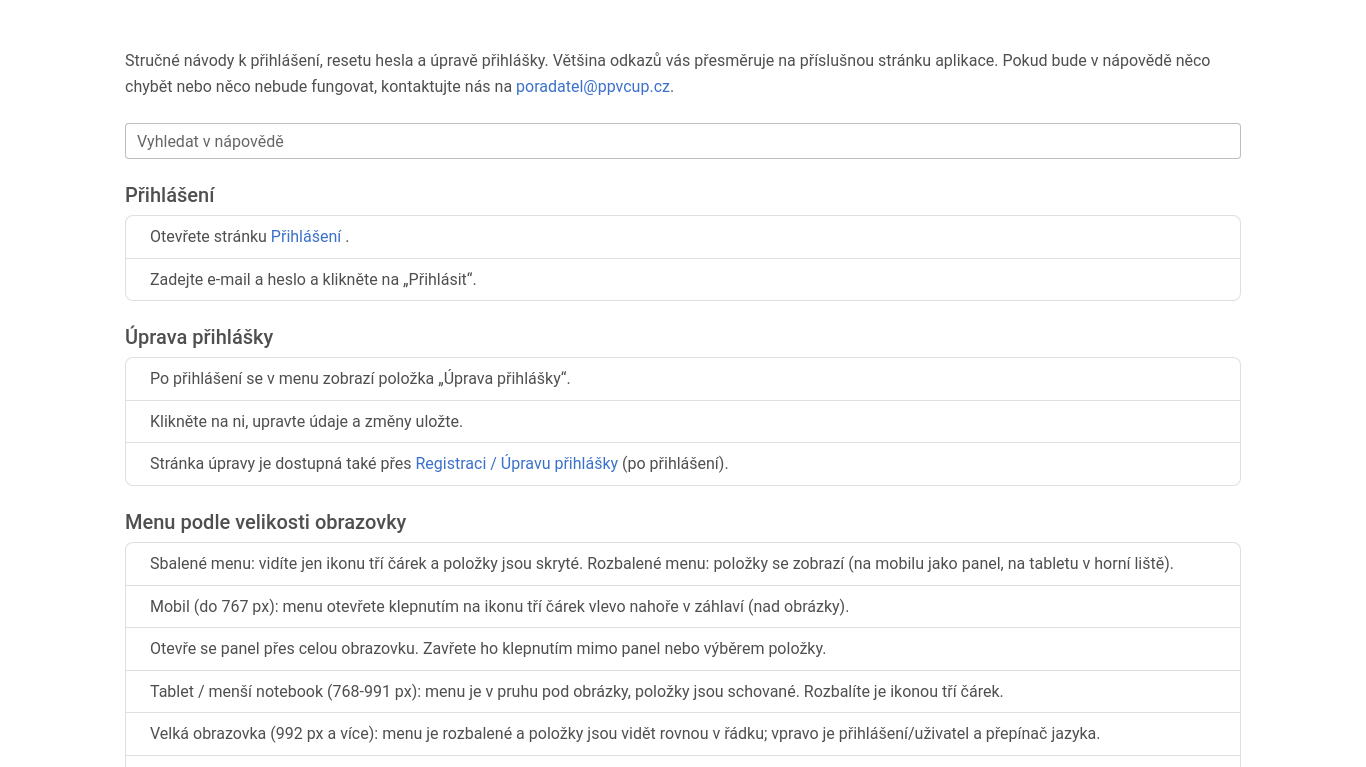
Scenario: search shows not-found message
Type "neexistuje" into the search field named "vyhledat v nápovědě" at point(683, 141), box [125,123,1241,159]
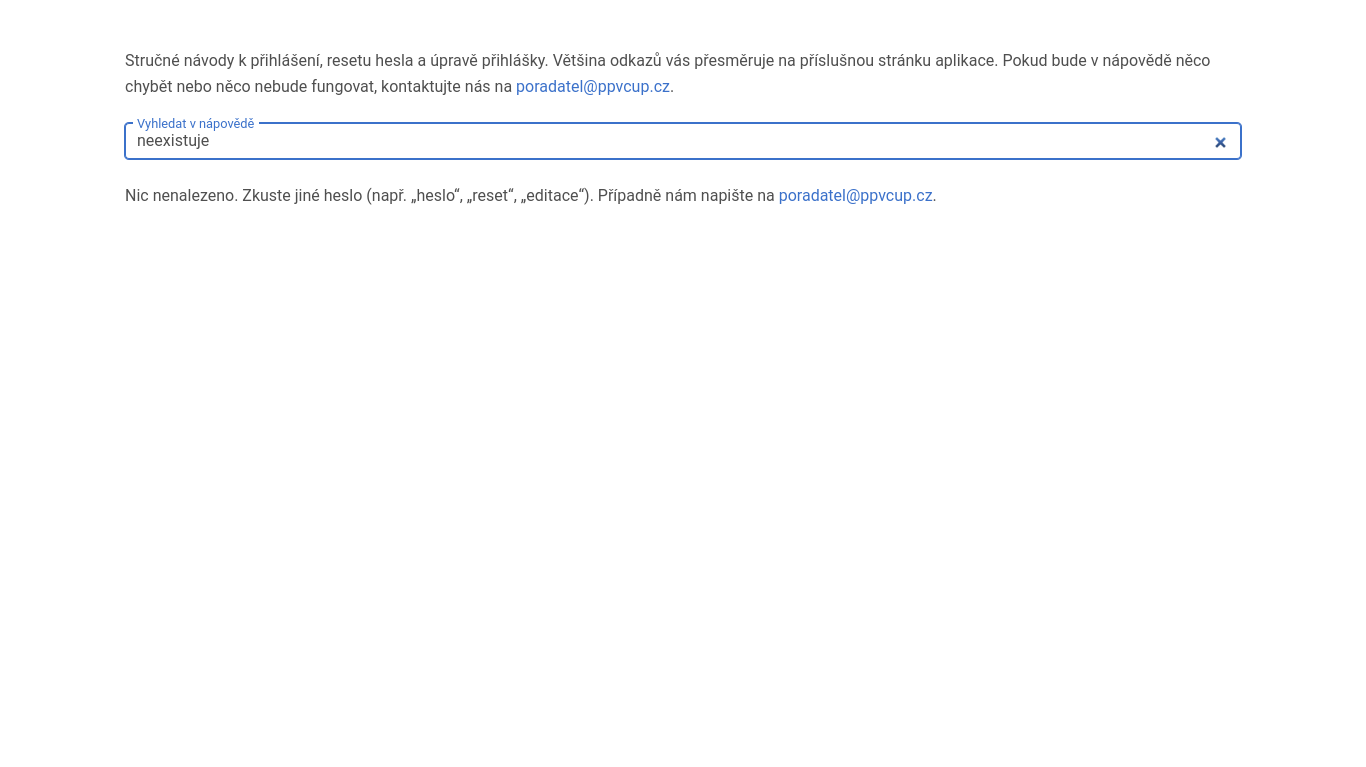
Result: the text "Nic nenalezeno" is shown at [125,186,779,205]
